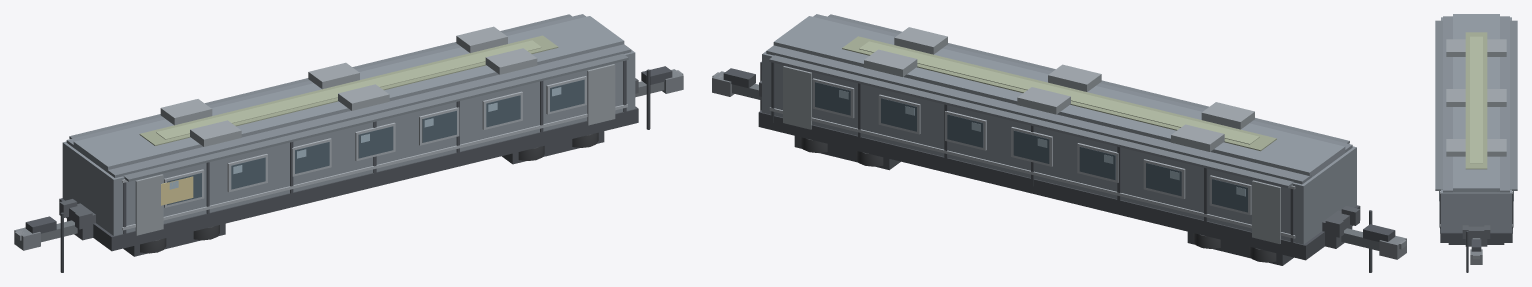
File: passenger.glb
The picture shows the model from 3 angles, left to right: view 1: azimuth 30°, elevation 25°; view 2: azimuth 150°, elevation 25°; view 3: azimuth 270°, elevation 25°; orthographic projection. The views are drawn at different scales.
Parts seen in each view (by area): view 1: passenger; view 2: passenger; view 3: passenger.
Part boxes in pixels (x1,y1,x2,y2): passenger: (14,14,683,272); passenger: (712,14,1406,272); passenger: (1435,14,1517,272).
Size of the model in its own units: 24.68 by 4.01 by 3.82.
